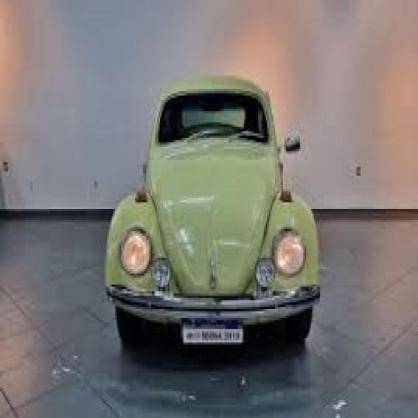car: (104, 74, 320, 360)
